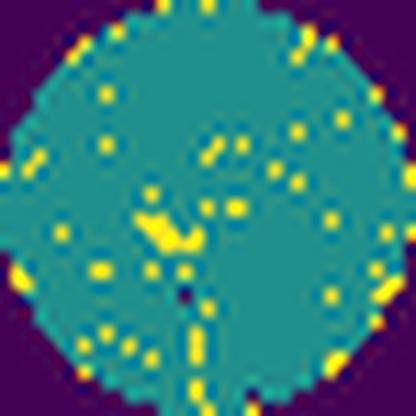Loc: (130, 210, 207, 257)
